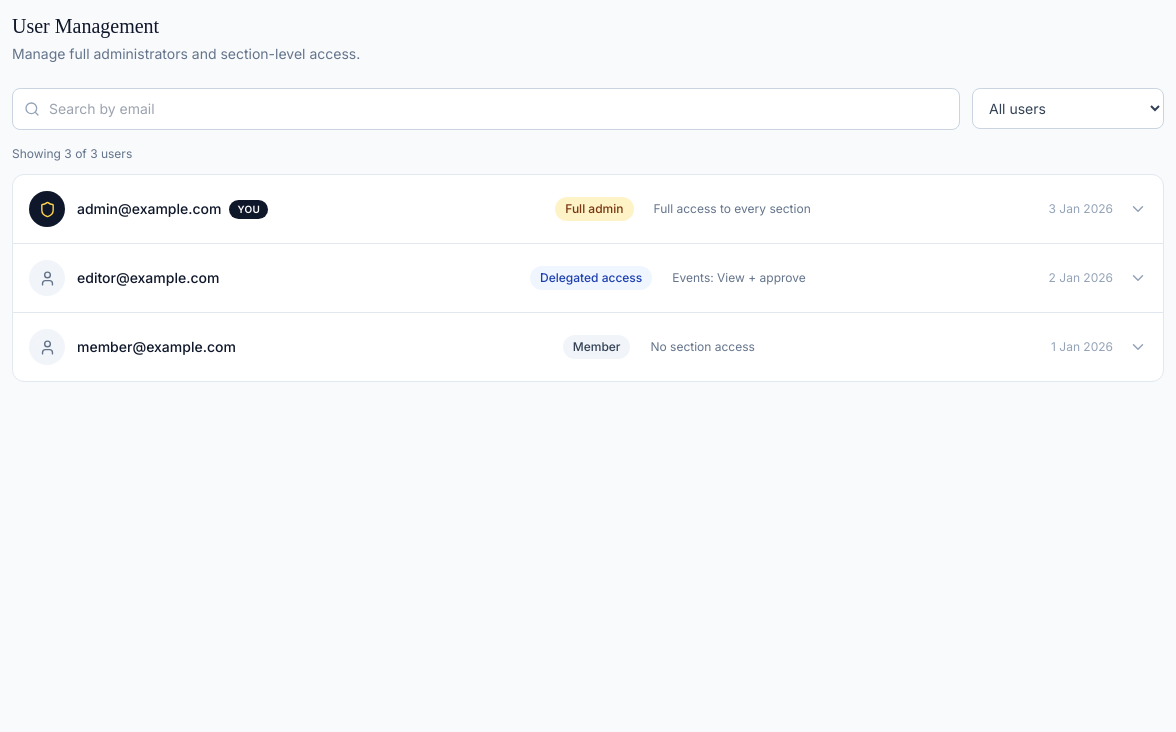
Test case: AdminUsersPage › requires confirmation before granting full administrator access
Step 1. Click the button with aria-label "Manage access for member@example.com" → (588, 347), box top-left (13, 313), bottom-right (1163, 381)
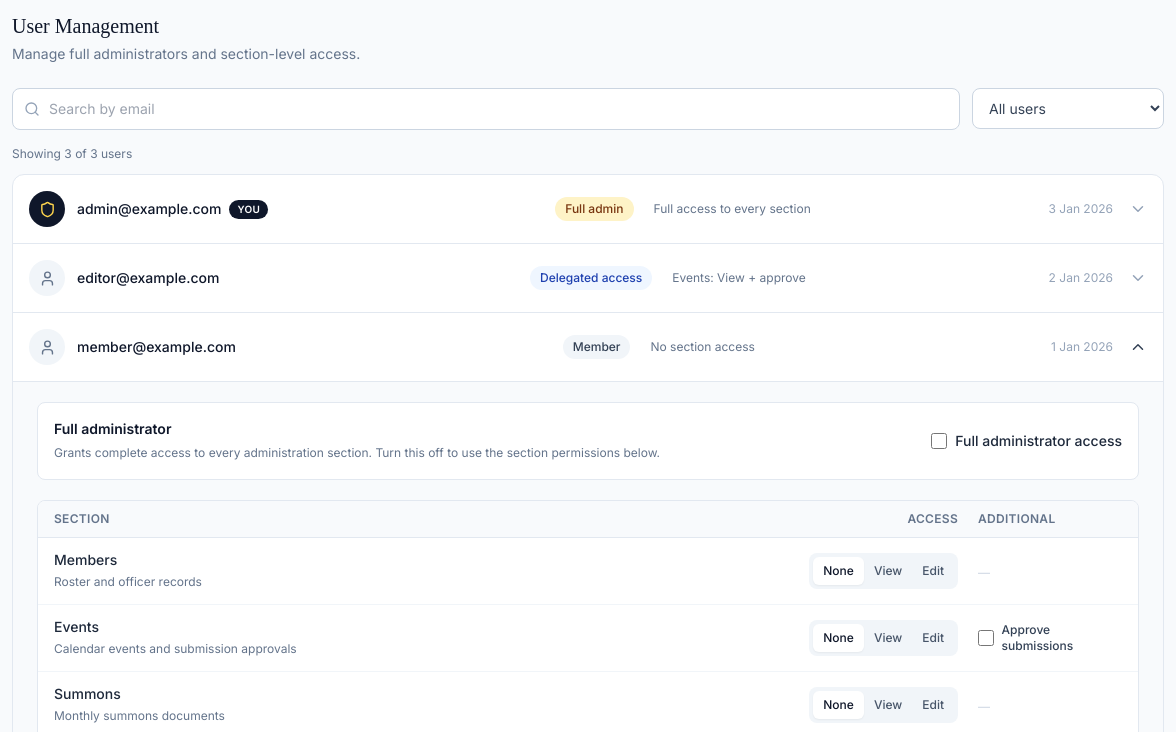
Step 2. Click the checkbox labelled "Full administrator access" → (939, 441), box top-left (931, 433), bottom-right (947, 449)
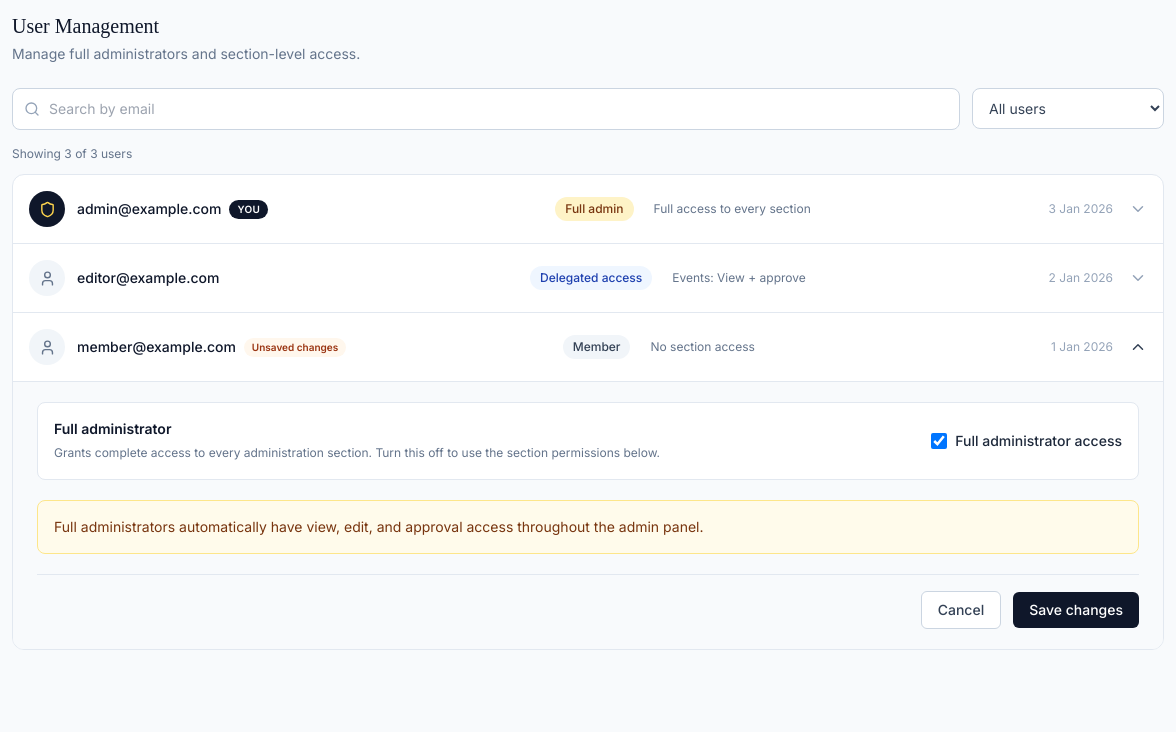
Step 3. Click the button "Save changes" → (1076, 610), box top-left (1013, 592), bottom-right (1139, 628)
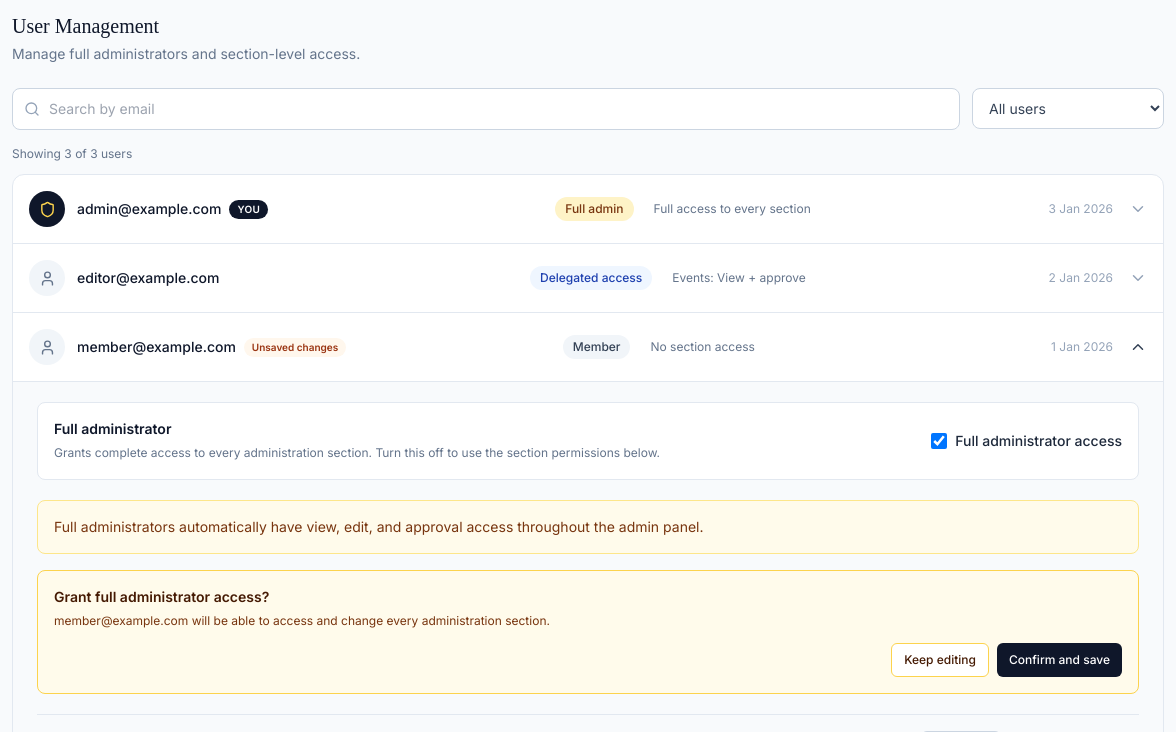
Check: the text "Grant full administrator access?" is shown, box top-left (54, 588), bottom-right (269, 605)
Step 4. Click the button "Confirm and save" → (1060, 660), box top-left (997, 643), bottom-right (1122, 677)
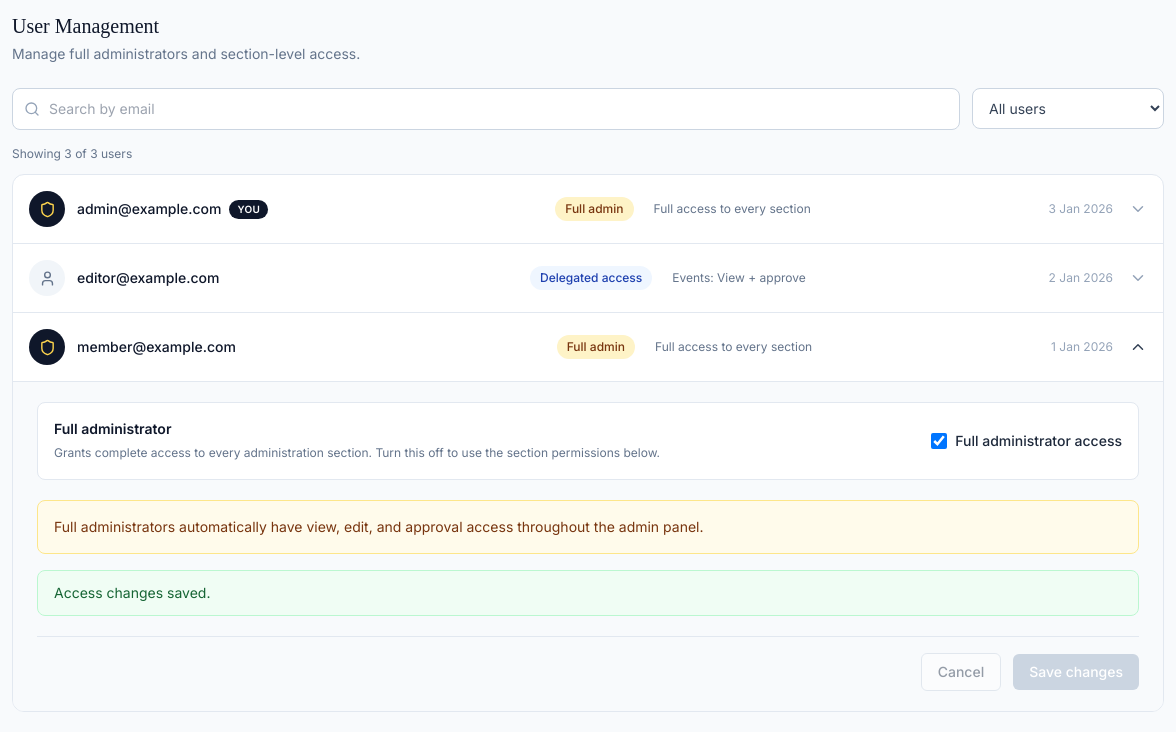
Check: the message reads "Access changes saved.", box top-left (54, 584), bottom-right (210, 601)
